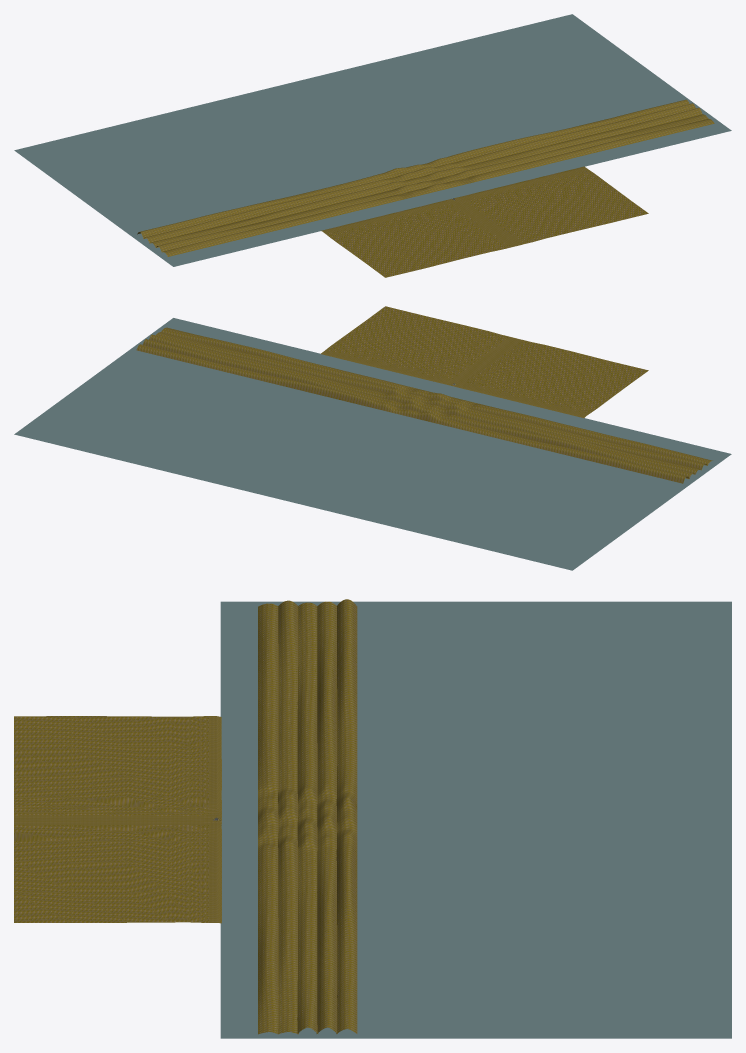
The model's file is house.glb.
The picture shows the model from 3 angles, top to bottom: view 1: azimuth 30°, elevation 25°; view 2: azimuth 150°, elevation 25°; view 3: azimuth 270°, elevation 25°; orthographic projection. The views are drawn at different scales.
Parts seen in each view (by area): view 1: Batch_Lake_water, Batch_Earth, Batch_Distant_ridge_3, Batch_Distant_ridge_0, Batch_Distant_ridge_2, Batch_Distant_ridge_4, Batch_Distant_ridge_1; view 2: Batch_Lake_water, Batch_Earth, Batch_Distant_ridge_4, Batch_Distant_ridge_0, Batch_Distant_ridge_3, Batch_Distant_ridge_1, Batch_Distant_ridge_2; view 3: Batch_Lake_water, Batch_Earth, Batch_Distant_ridge_4, Batch_Distant_ridge_0, Batch_Distant_ridge_3, Batch_Distant_ridge_1, Batch_Distant_ridge_2.
Part boxes in pixels (x1,y1,x2,y2): Batch_Lake_water: (14,14,731,266); Batch_Earth: (321,166,648,277); Batch_Distant_ridge_3: (144,103,695,243); Batch_Distant_ridge_0: (163,118,714,256); Batch_Distant_ridge_2: (150,107,702,247); Batch_Distant_ridge_4: (137,99,689,238); Batch_Distant_ridge_1: (156,114,708,252); Batch_Lake_water: (14,318,731,570); Batch_Earth: (321,306,648,417); Batch_Distant_ridge_4: (136,344,689,483); Batch_Distant_ridge_0: (161,327,712,465); Batch_Distant_ridge_3: (142,339,694,478); Batch_Distant_ridge_1: (155,332,707,470); Batch_Distant_ridge_2: (149,334,700,474); Batch_Lake_water: (220,601,731,1038); Batch_Earth: (14,716,221,923); Batch_Distant_ridge_4: (336,599,357,1033); Batch_Distant_ridge_0: (258,603,278,1034); Batch_Distant_ridge_3: (316,601,337,1033); Batch_Distant_ridge_1: (278,600,298,1034); Batch_Distant_ridge_2: (297,602,318,1033).
Size of the model in its own units: 3600 by 46.6 by 2500.
46 materials, 12 textured.
